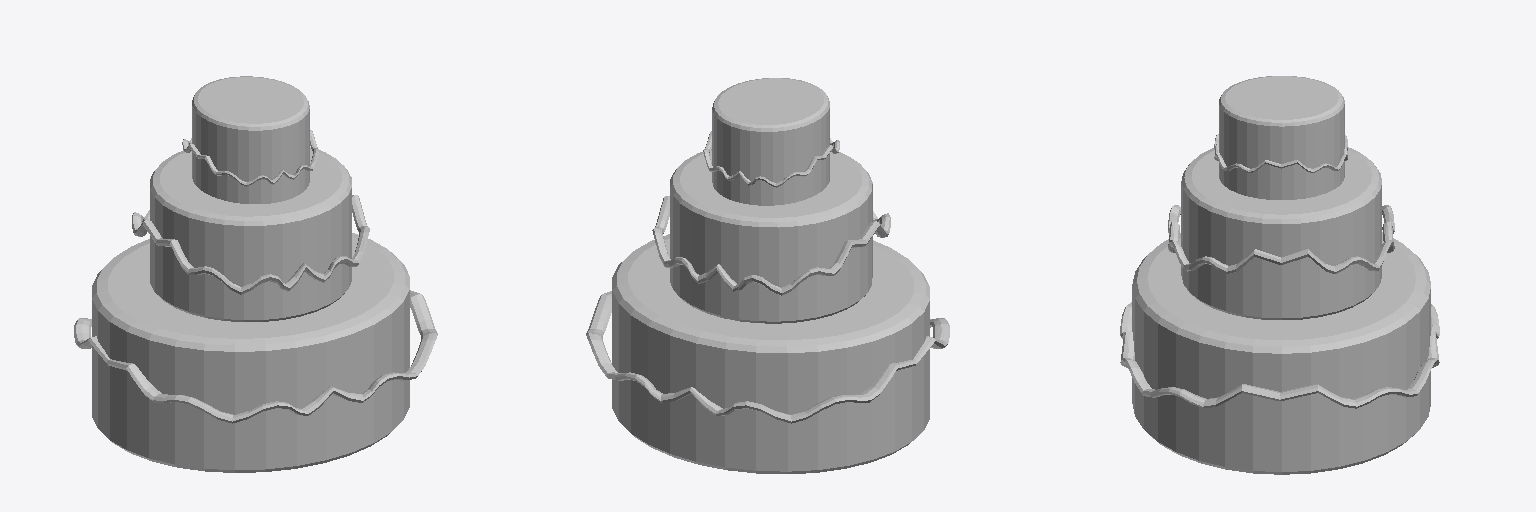
File: Cake_V3.obj
3 renders of one model, left to right at view 1: azimuth 30°, elevation 25°; view 2: azimuth 150°, elevation 25°; view 3: azimuth 270°, elevation 25°, orthographic.
Visible parts, largest first — view 1: Cake, Cake_Deco; view 2: Cake, Cake_Deco; view 3: Cake, Cake_Deco.
Part boxes in pixels (left/top/right/bottom): Cake: left=92, top=76, right=409, bottom=472; Cake_Deco: left=74, top=130, right=437, bottom=423; Cake: left=612, top=78, right=929, bottom=473; Cake_Deco: left=586, top=131, right=949, bottom=423; Cake: left=1132, top=76, right=1430, bottom=474; Cake_Deco: left=1120, top=134, right=1439, bottom=408.
Bounding box in the file's own units: 7.98 × 7.95 × 7.38.